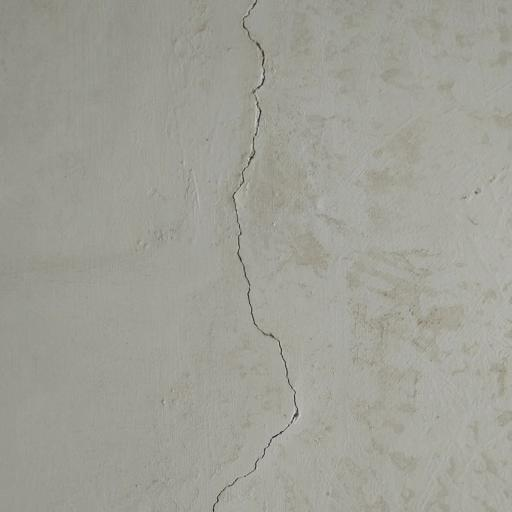minor_crack: (196, 0, 311, 512)
